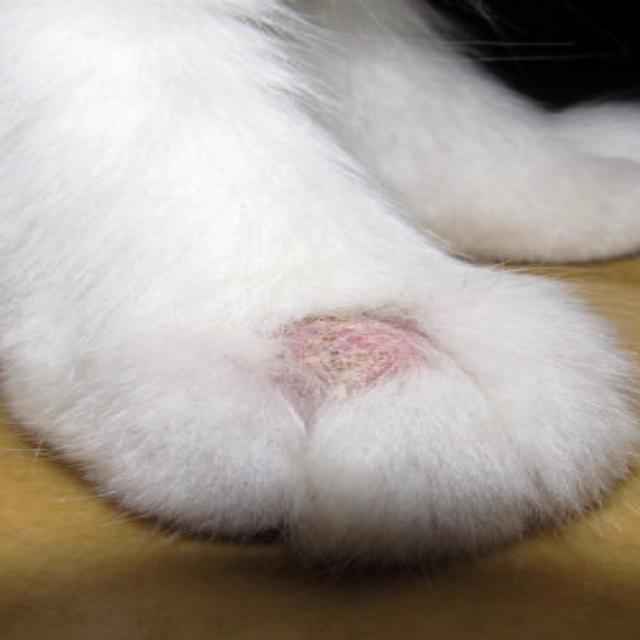hac lao: (242, 294, 503, 434)
